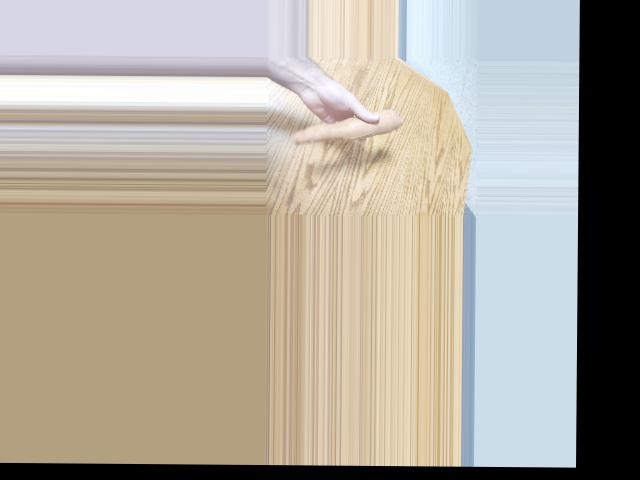sweet_potato: (292, 118, 401, 140)
